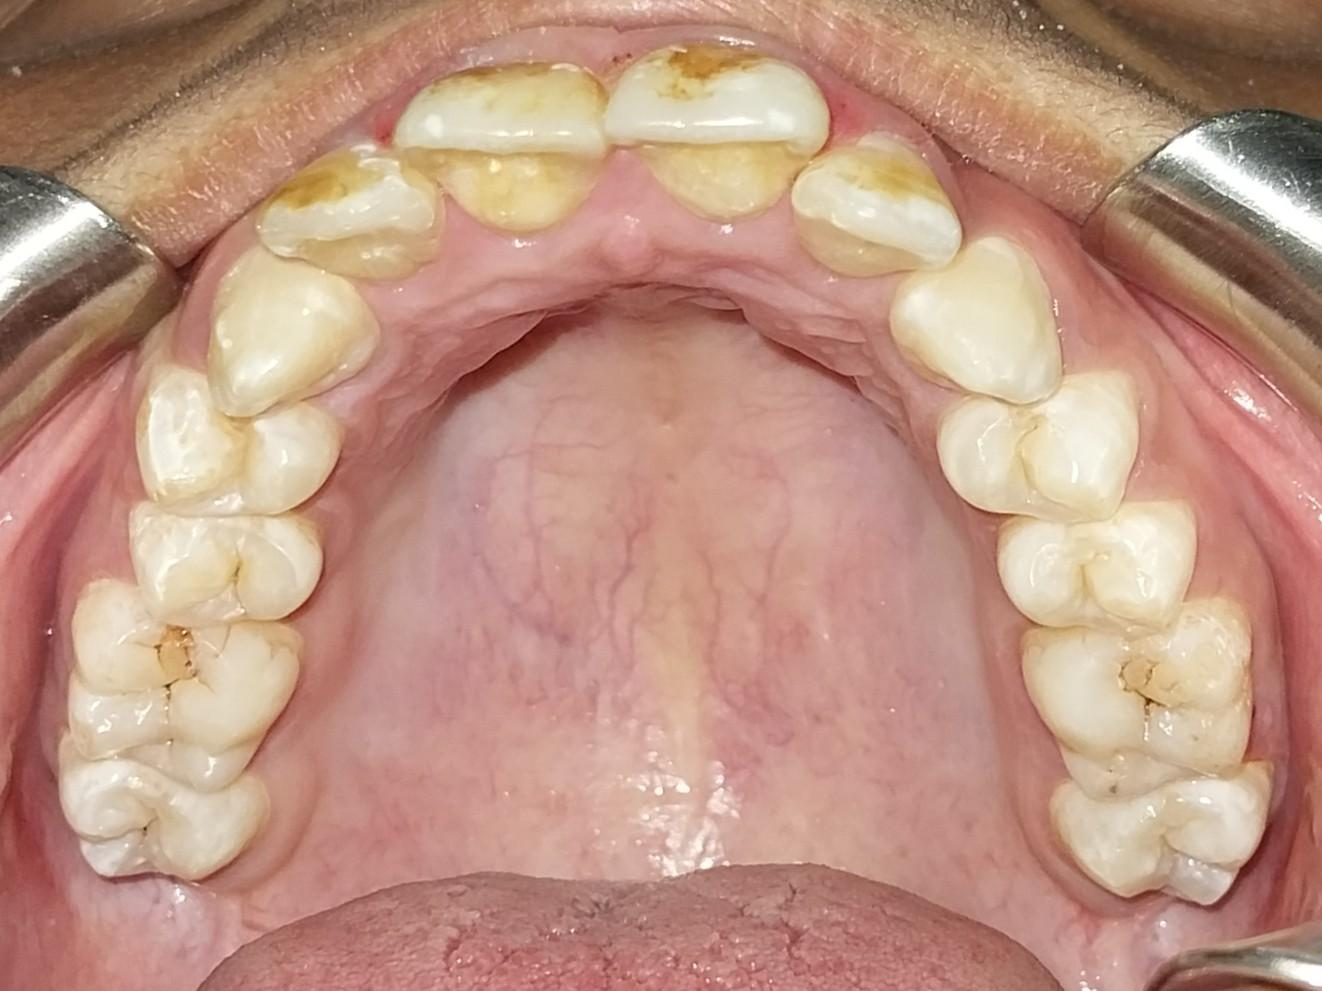D: (62, 576, 303, 789), (1019, 598, 1258, 803)
